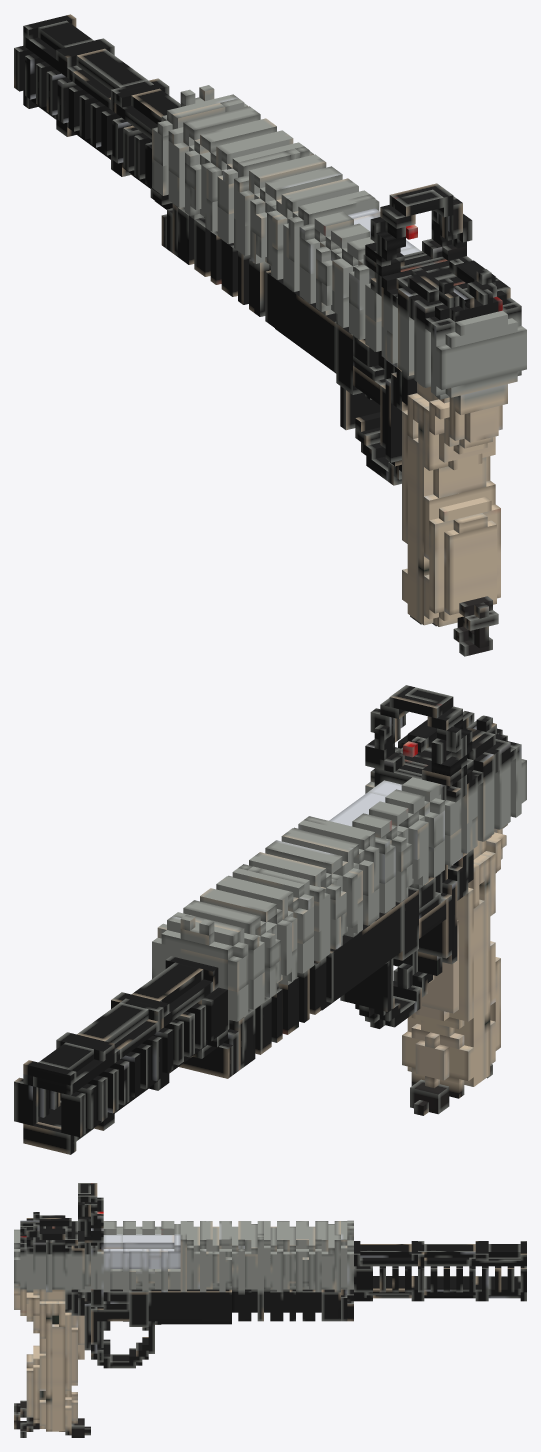
Rendered from CubikModel.obj.
The picture shows the model from 3 angles, top to bottom: view 1: azimuth 30°, elevation 25°; view 2: azimuth 150°, elevation 25°; view 3: azimuth 270°, elevation 25°; orthographic projection. The views are drawn at different scales.
Parts seen in each view (by area): view 1: Element #151, Element #55, Element #23, Element #43, Element #46, Element #42, Element #2, Element #268, Element #3, Element #157, Element #47, Element #135 (+24 smaller); view 2: Element #55, Element #43, Element #48, Element #42, Element #266, Element #268, Element #3, Element #159, Element #155, Element #2, Element #45, Element #135 (+63 smaller); view 3: Element #55, Element #43, Element #167, Element #42, Element #210, Element #3, Element #53, Element #266, Element #268, Element #2, Element #182, Element #62 (+45 smaller).
Boxes of the visible parts, x1,y1,x2,y2 form: Element #151: (444,520,496,615); Element #55: (265,270,336,372); Element #23: (436,326,526,389); Element #43: (407,435,418,620); Element #46: (429,504,500,613); Element #42: (418,401,490,625); Element #2: (414,280,510,387); Element #268: (76,48,148,90); Element #3: (398,275,465,375); Element #157: (433,457,486,498); Element #47: (424,480,495,559); Element #135: (265,166,342,200); Element #55: (326,900,402,1002); Element #43: (407,899,484,1086); Element #48: (449,887,473,1021); Element #42: (475,855,490,1078); Element #266: (131,962,203,1003); Element #268: (77,1002,148,1043); Element #3: (398,735,494,841); Element #159: (340,958,393,1011); Element #155: (422,920,458,1013); Element #2: (490,739,510,829); Element #45: (402,1031,473,1080); Element #135: (265,840,342,873); Element #55: (148,1289,231,1321); Element #43: (52,1324,65,1431); Element #167: (232,1289,321,1312); Element #42: (46,1301,52,1431); Element #210: (123,1229,174,1248); Element #3: (52,1226,65,1289); Element #53: (129,1289,148,1326); Element #266: (360,1244,411,1257); Element #268: (424,1244,475,1257); Element #2: (33,1226,45,1289); Element #182: (424,1276,475,1295); Element #62: (321,1289,340,1321).
Size of the model in its own units: 2.25 by 10.5 by 20.
1 material, 1 textured.
